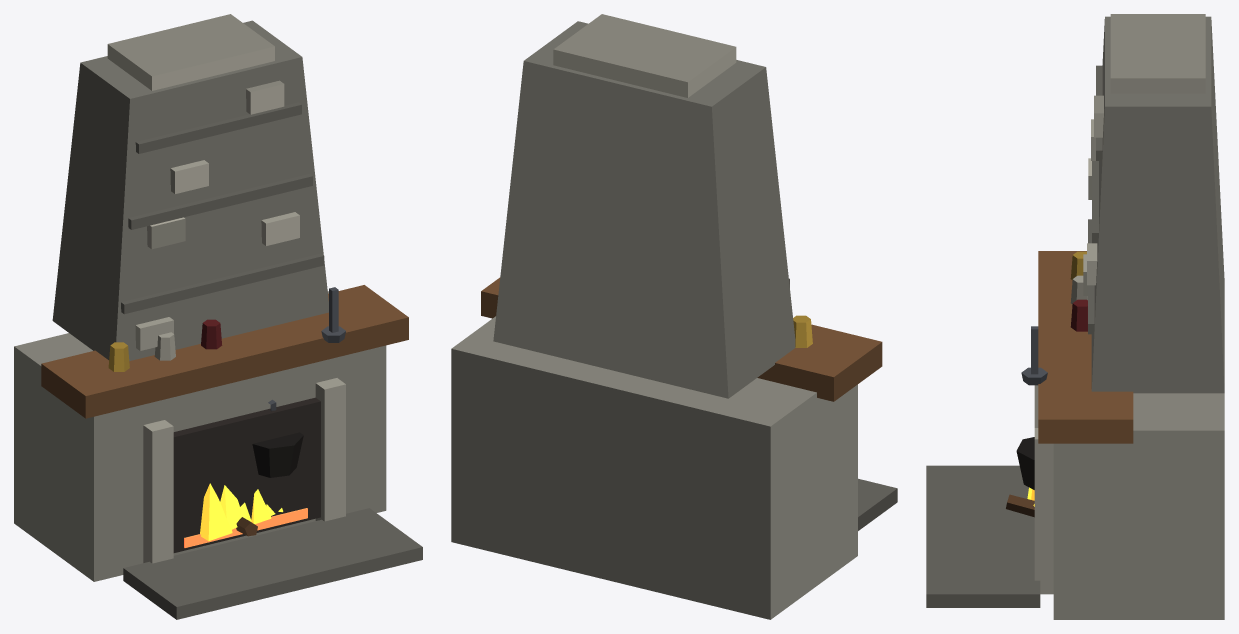
Rendered from hearth.glb.
3 renders of one model, left to right at view 1: azimuth 30°, elevation 25°; view 2: azimuth 150°, elevation 25°; view 3: azimuth 270°, elevation 25°, orthographic. The views are drawn at different scales.
Visible parts, largest first — view 1: hearth; view 2: hearth; view 3: hearth.
Boxes of the visible parts, x1=… form: hearth: x1=14, y1=14, x2=422, y2=619; hearth: x1=451, y1=14, x2=897, y2=619; hearth: x1=926, y1=14, x2=1224, y2=619.
Size of the model in its own units: 2.1 by 2.89 by 1.57.
